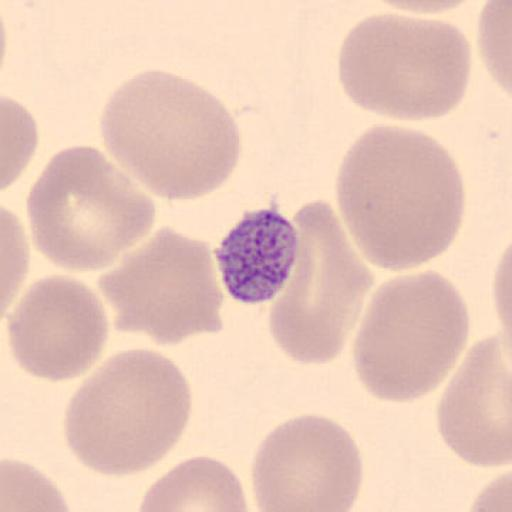Platelet: (213, 206, 302, 306)
RBC: (333, 123, 466, 271), (99, 68, 241, 203), (62, 346, 194, 479), (270, 198, 374, 366), (24, 143, 157, 273), (351, 268, 471, 405), (98, 226, 226, 346), (336, 12, 474, 122), (6, 273, 110, 383), (250, 412, 364, 512), (436, 335, 512, 469), (136, 454, 250, 512), (0, 457, 74, 512), (2, 93, 38, 192), (476, 1, 512, 98), (0, 206, 30, 317), (490, 240, 512, 350), (368, 0, 486, 16), (467, 471, 511, 512), (492, 250, 512, 332)
